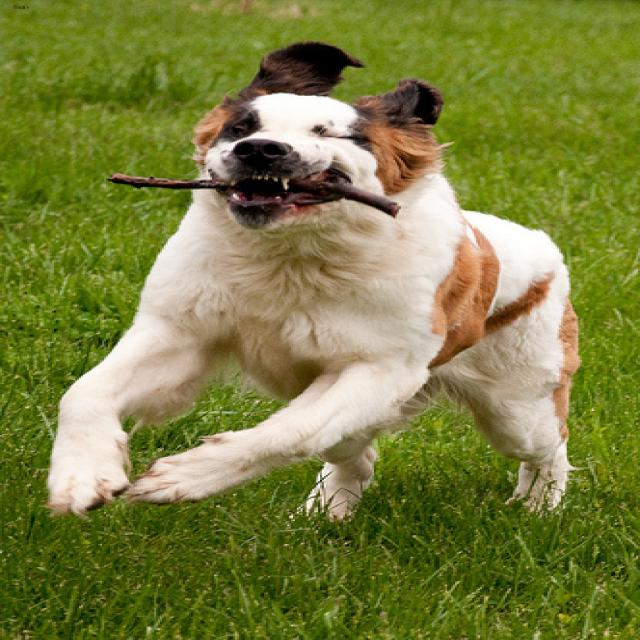dog-saint_bernard: (31, 40, 588, 531)
